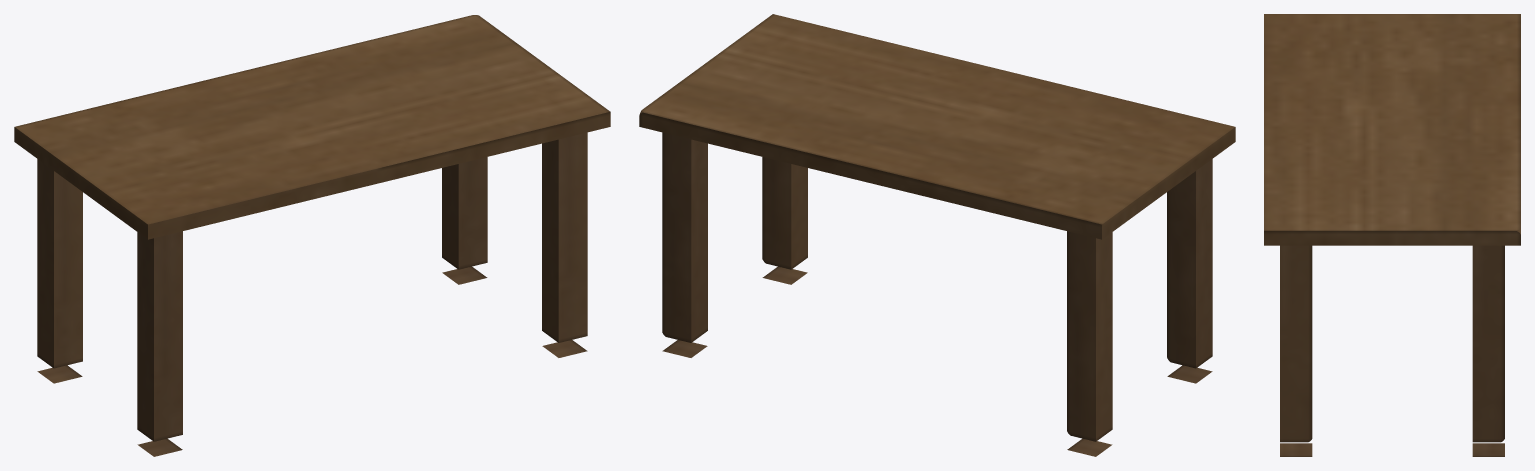
File: wood_table2.obj
3 renders of one model, left to right at view 1: azimuth 30°, elevation 25°; view 2: azimuth 150°, elevation 25°; view 3: azimuth 270°, elevation 25°, orthographic. The views are drawn at different scales.
Visible parts, largest first — view 1: nx, nz, ny, nA, nB; view 2: nx, nA, nB, nz, ny; view 3: nx, nB, ny.
Boxes of the visible parts, x1=… form: nx: x1=14, y1=15, x2=610, y2=239; nz: x1=137, y1=231, x2=182, y2=456; ny: x1=542, y1=132, x2=587, y2=357; nA: x1=37, y1=159, x2=82, y2=383; nB: x1=442, y1=157, x2=487, y2=284; nx: x1=639, y1=14, x2=1235, y2=239; nA: x1=1067, y1=231, x2=1112, y2=456; nB: x1=662, y1=132, x2=707, y2=357; nz: x1=1167, y1=159, x2=1212, y2=383; ny: x1=762, y1=157, x2=807, y2=284; nx: x1=1264, y1=14, x2=1520, y2=245; nB: x1=1472, y1=245, x2=1504, y2=456; ny: x1=1280, y1=245, x2=1312, y2=456.
Size of the model in its own units: 2 by 1 by 1.
Materials: 1 (1 with a texture image).
